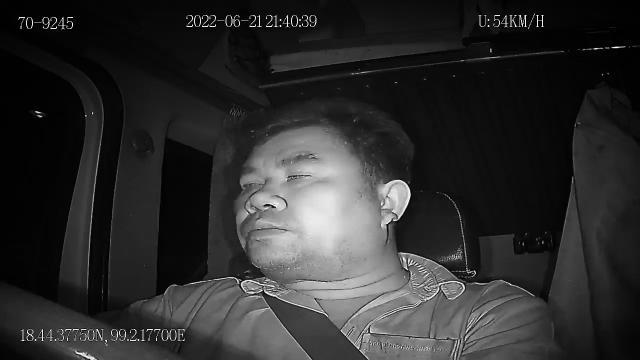SafeDriving: (280, 162, 324, 190)
Seatbelt: (242, 280, 378, 360)
